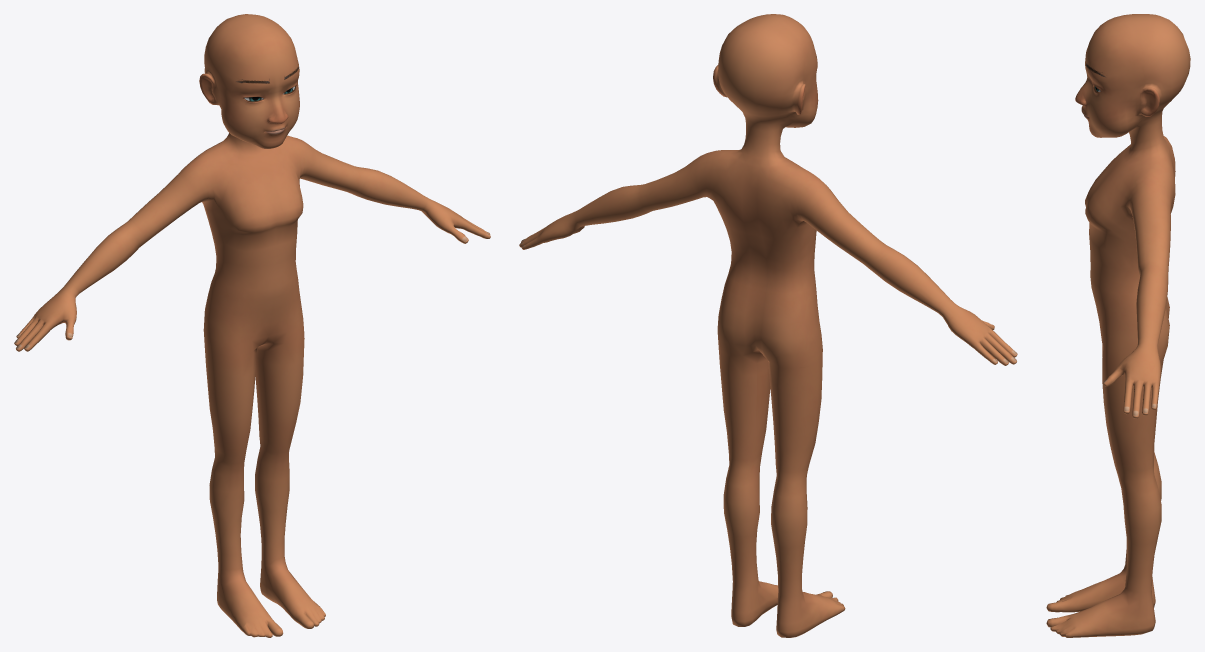
The model's file is frame_0070.glb.
3 renders of one model, left to right at view 1: azimuth 30°, elevation 25°; view 2: azimuth 150°, elevation 25°; view 3: azimuth 270°, elevation 25°, orthographic. The views are drawn at different scales.
Parts seen in each view (by area): view 1: frame_0070_head_geo; view 2: frame_0070_head_geo; view 3: frame_0070_head_geo.
Boxes of the visible parts, <box> form: frame_0070_head_geo: <box>14,14,490,637</box>; frame_0070_head_geo: <box>519,14,1017,637</box>; frame_0070_head_geo: <box>1046,14,1190,637</box>.
Bounding box in the file's own units: 1.28 × 1.5 × 0.3253.
3 materials, 3 textured.
